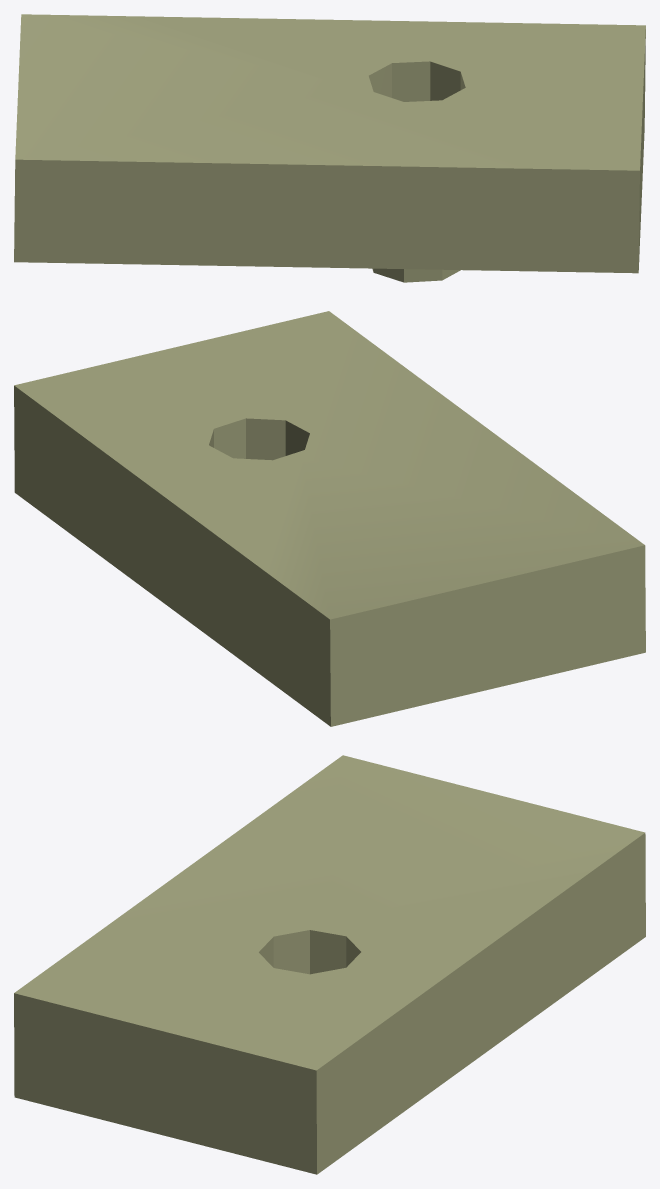
Rendered from ProBuilder_WellSubstraction.fbx.
The picture shows the model from 3 angles, top to bottom: view 1: azimuth 30°, elevation 25°; view 2: azimuth 150°, elevation 25°; view 3: azimuth 270°, elevation 25°; orthographic projection. The views are drawn at different scales.
Visible parts, largest first — view 1: ProBuilder_Substraction; view 2: ProBuilder_Substraction; view 3: ProBuilder_Substraction.
Boxes of the visible parts, x1,y1,x2,y2 form: ProBuilder_Substraction: (14,14,645,282); ProBuilder_Substraction: (14,311,645,726); ProBuilder_Substraction: (14,755,645,1174).
Bounding box in the file's own units: 13952 × 3982 × 12071.
